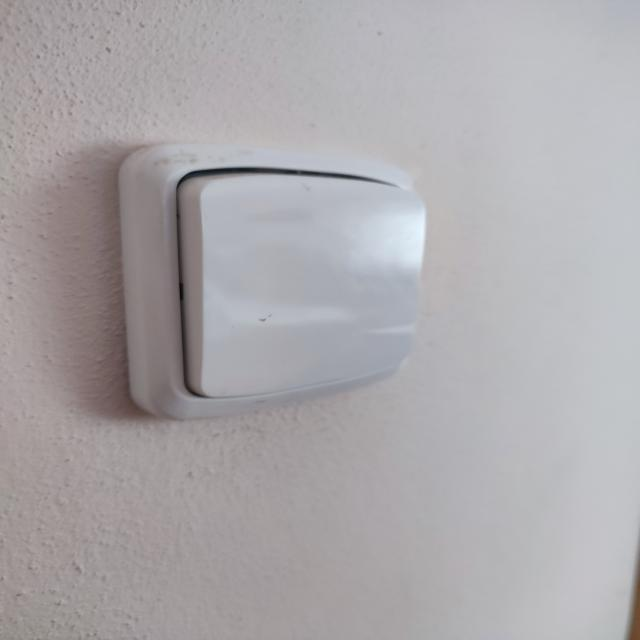house switch: (117, 142, 427, 420)
